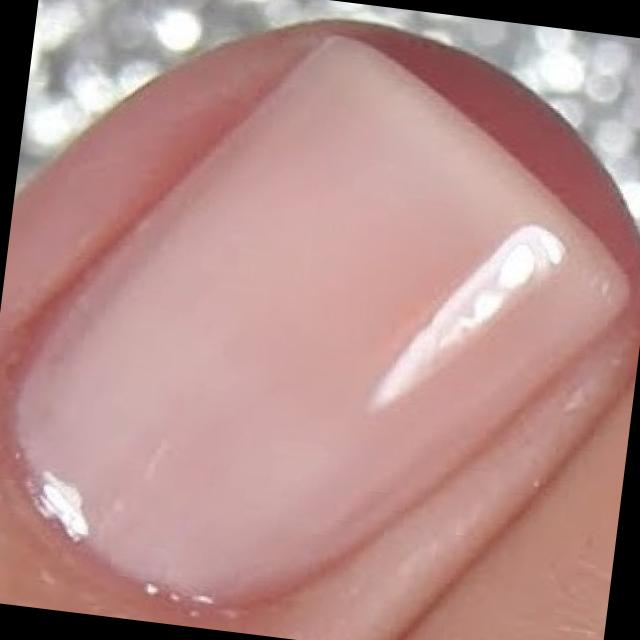Nail: (4, 32, 632, 609)
